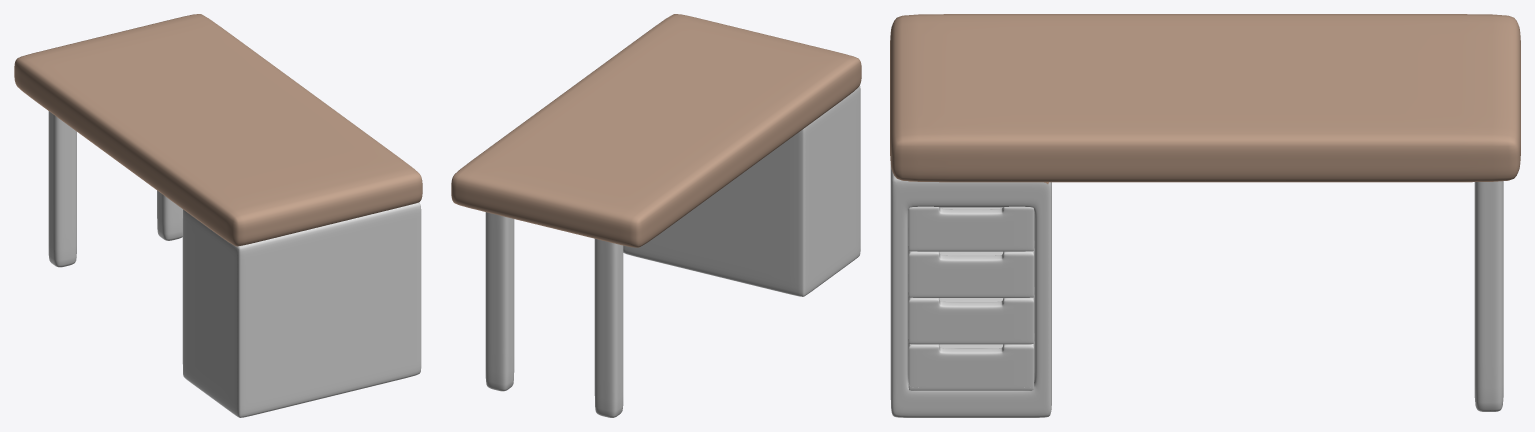
The model's file is desk1.glb.
3 views of the same model, side by side, from view 1: azimuth 30°, elevation 25°; view 2: azimuth 150°, elevation 25°; view 3: azimuth 270°, elevation 25° (orthographic). The views are drawn at different scales.
Visible parts, largest first — view 1: Desk 1; view 2: Desk 1; view 3: Desk 1.
Boxes of the visible parts, x1=… form: Desk 1: x1=14, y1=14, x2=422, y2=417; Desk 1: x1=451, y1=14, x2=861, y2=417; Desk 1: x1=890, y1=14, x2=1520, y2=417.
Bounding box in the file's own units: 0.5627 × 0.5995 × 1.16.
